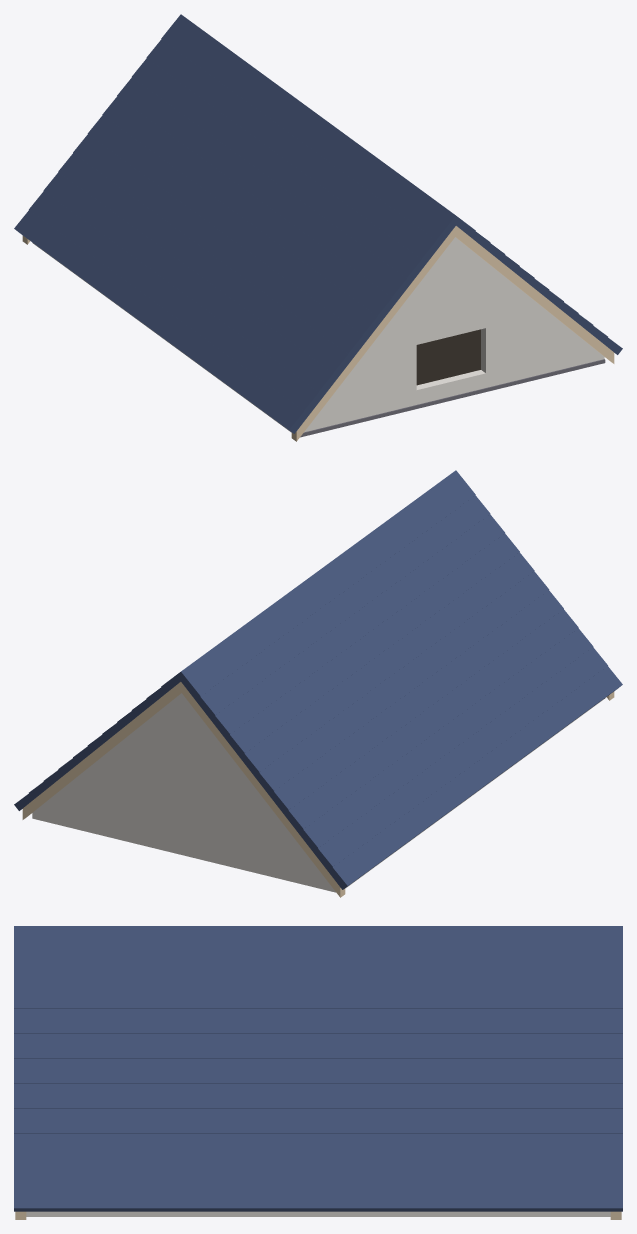
Rendered from SM_Roof_NarrowGable_White_546_01.gltf.
3 renders of one model, top to bottom at view 1: azimuth 30°, elevation 25°; view 2: azimuth 150°, elevation 25°; view 3: azimuth 270°, elevation 25°, orthographic. The views are drawn at different scales.
Visible parts, largest first — view 1: SM_Roof_NarrowGable_White_546_01; view 2: SM_Roof_NarrowGable_White_546_01; view 3: SM_Roof_NarrowGable_White_546_01.
Part boxes in pixels (x1,y1,x2,y2): SM_Roof_NarrowGable_White_546_01: (14, 14, 622, 441); SM_Roof_NarrowGable_White_546_01: (14, 470, 622, 897); SM_Roof_NarrowGable_White_546_01: (14, 926, 622, 1219).
Bounding box in the file's own units: 5.94 × 3.2 × 8.49.
Materials: 1 (1 with a texture image).
